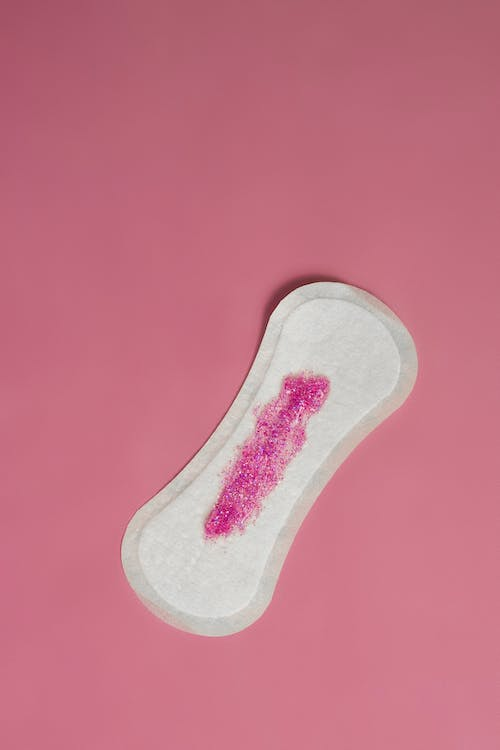blood: (197, 364, 336, 545)
